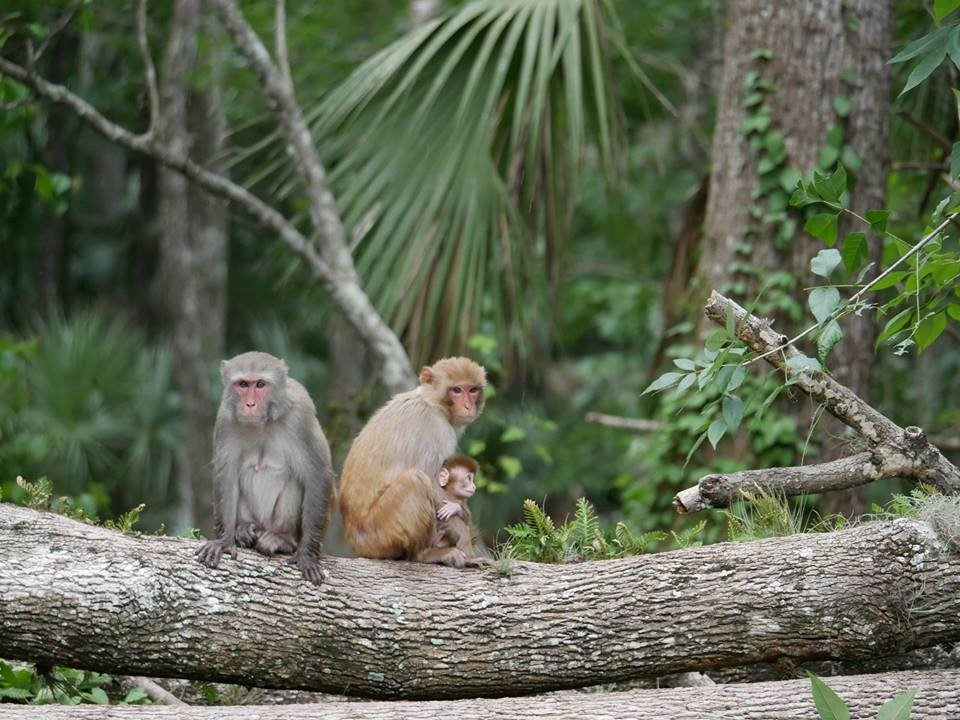monkey: (338, 336, 507, 575), (191, 343, 331, 603)
